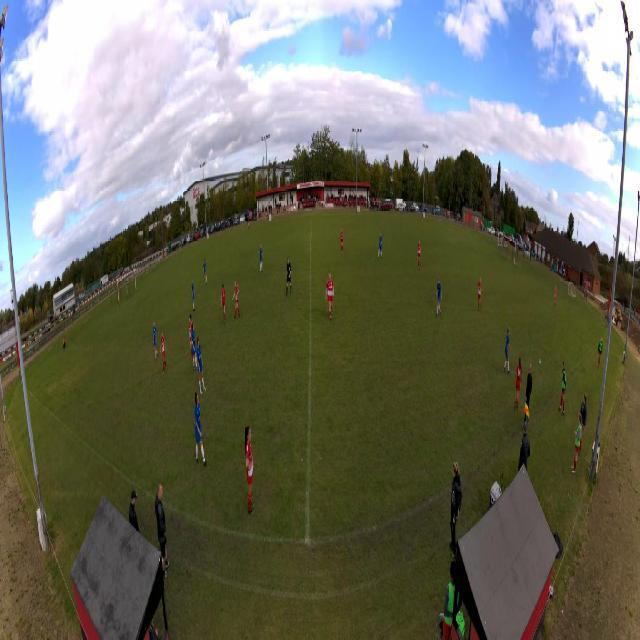ball: (539, 359, 542, 366)
player: (194, 392, 206, 469), (245, 425, 255, 516), (196, 336, 206, 393), (515, 356, 523, 411), (326, 273, 335, 320), (160, 332, 168, 377), (232, 281, 241, 320), (191, 322, 197, 372), (220, 283, 226, 324), (436, 276, 442, 317), (152, 321, 158, 362), (505, 326, 510, 374), (286, 257, 292, 296), (188, 313, 192, 360), (258, 244, 264, 275), (191, 277, 196, 312), (477, 278, 482, 310), (418, 239, 422, 270), (378, 233, 382, 260), (203, 259, 207, 283), (340, 229, 344, 253), (554, 284, 557, 305), (126, 284, 129, 300)
